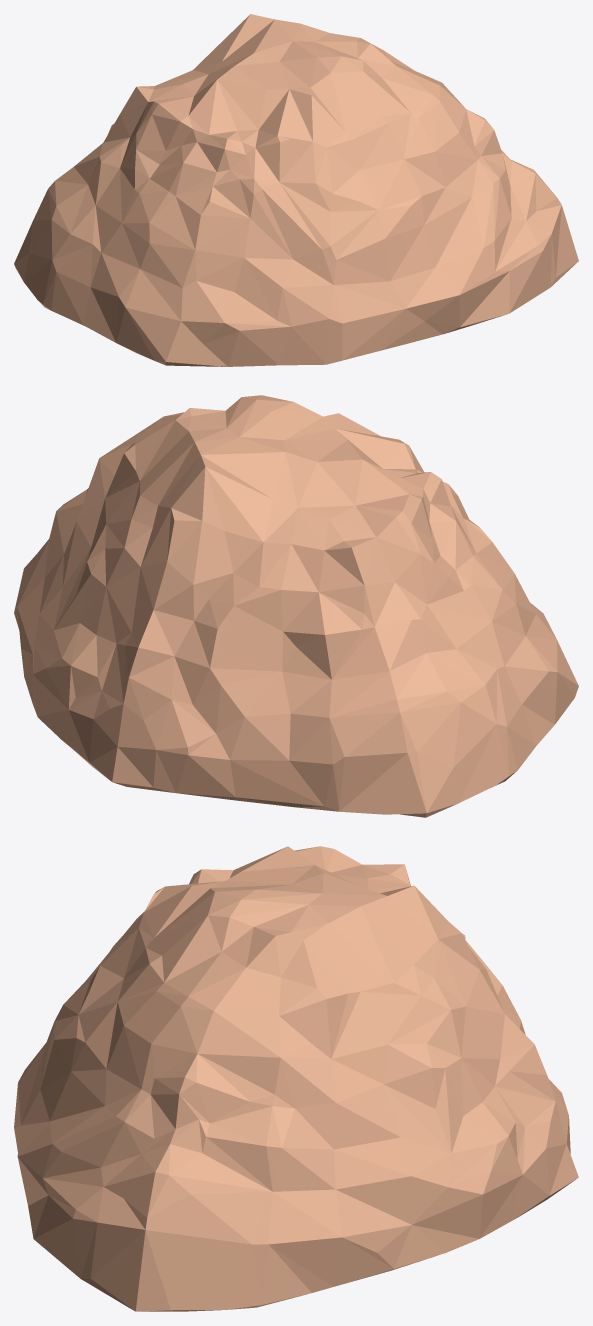
Rendered from SM_Boulder1_LOD0.fbx.
3 views of the same model, one above another, from view 1: azimuth 30°, elevation 25°; view 2: azimuth 150°, elevation 25°; view 3: azimuth 270°, elevation 25° (orthographic). The views are drawn at different scales.
Visible parts, largest first — view 1: SM_Boulder1_LOD0; view 2: SM_Boulder1_LOD0; view 3: SM_Boulder1_LOD0.
Boxes of the visible parts, box(x1,y1,x2,y2) form: SM_Boulder1_LOD0: box(14, 14, 578, 366); SM_Boulder1_LOD0: box(14, 395, 578, 817); SM_Boulder1_LOD0: box(14, 846, 578, 1311).
Bounding box in the file's own units: 14.56 × 6.85 × 12.18.
